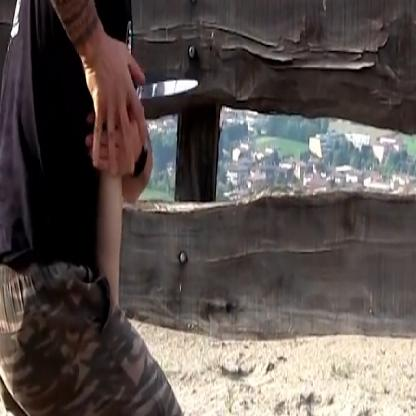knife: (108, 56, 210, 120)
